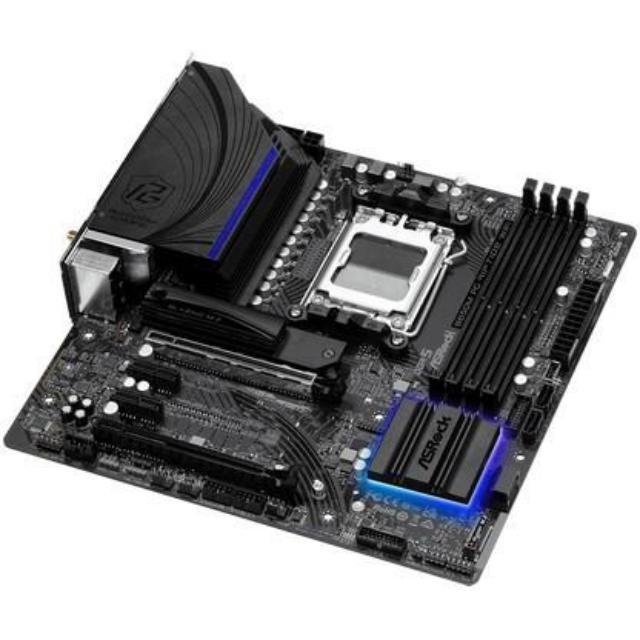Mainboard: (3, 54, 640, 592)
